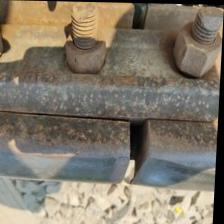person: (80, 97, 189, 206), (115, 2, 164, 34)
